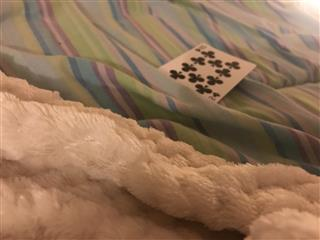TenOfClubs: (157, 42, 256, 103)
